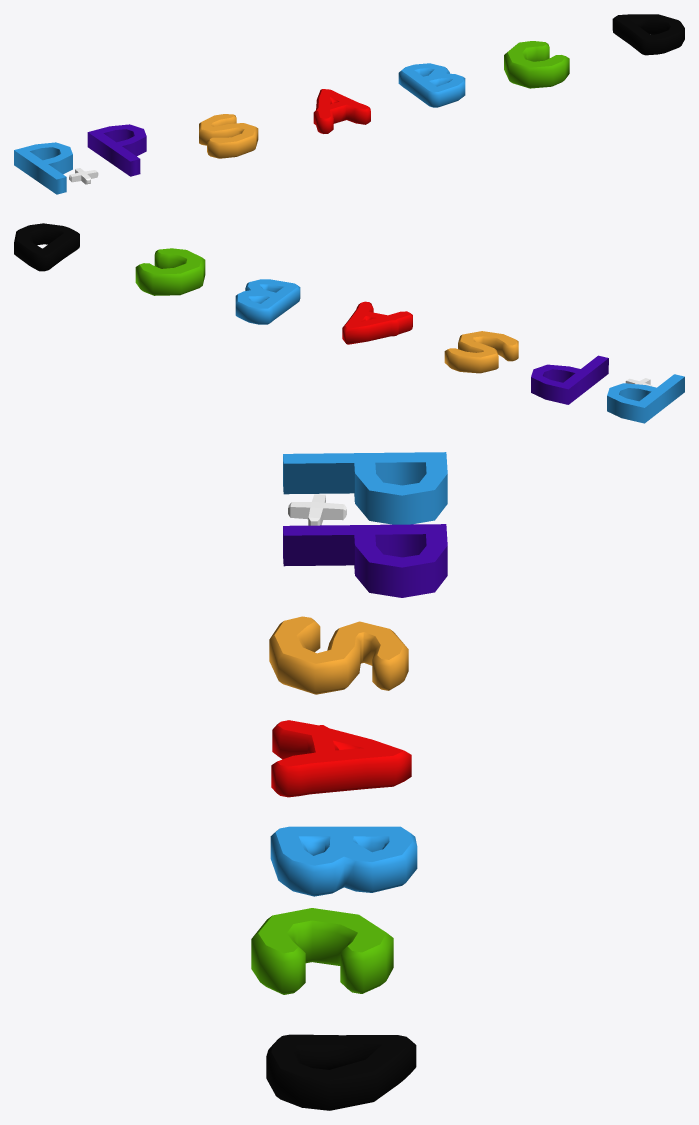
Rendered from OnlyLettersRank.fbx.
The picture shows the model from 3 angles, top to bottom: view 1: azimuth 30°, elevation 25°; view 2: azimuth 150°, elevation 25°; view 3: azimuth 270°, elevation 25°; orthographic projection. The views are drawn at different scales.
Visible parts, largest first — view 1: P2Rank, CRank, DRank, BRank, PRank, SRank, ARank; view 2: CRank, P2Rank, PRank, DRank, SRank, BRank, ARank; view 3: P2Rank, DRank, CRank, PRank, BRank, ARank, SRank.
Part boxes in pixels (box(x1,y1,x2,y2)): P2Rank: box(14, 142, 98, 194); CRank: box(504, 41, 569, 88); DRank: box(612, 14, 684, 55); BRank: box(398, 63, 465, 107); PRank: box(87, 124, 146, 176); SRank: box(199, 114, 258, 158); ARank: box(313, 89, 370, 133); CRank: box(135, 248, 205, 295); P2Rank: box(607, 374, 684, 423); PRank: box(531, 355, 608, 404); DRank: box(14, 223, 79, 271); SRank: box(444, 331, 518, 373); BRank: box(235, 279, 300, 324); ARank: box(342, 301, 412, 344); P2Rank: box(283, 452, 447, 525); DRank: box(266, 1034, 416, 1110); CRank: box(251, 908, 393, 994); PRank: box(283, 524, 447, 597); BRank: box(270, 826, 417, 896); ARank: box(271, 720, 411, 797); SRank: box(269, 616, 408, 694).
Bounding box in the file's own units: 605 × 20.14 × 80.76.
